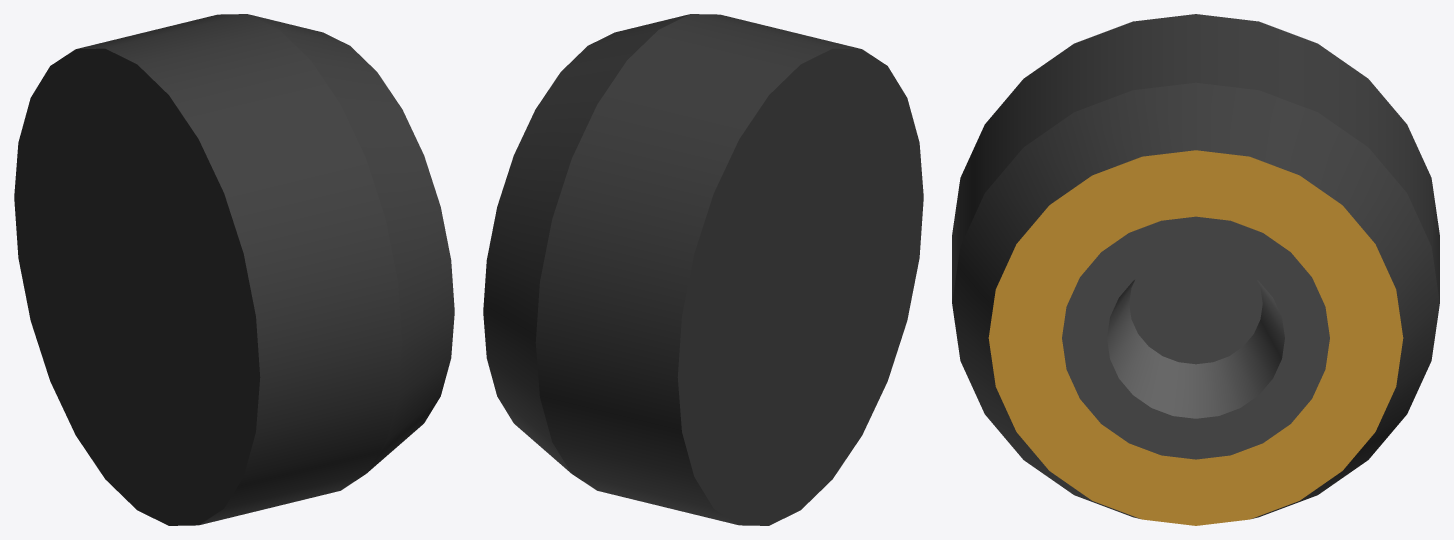
File: wheelRacing.fbx
3 renders of one model, left to right at view 1: azimuth 30°, elevation 25°; view 2: azimuth 150°, elevation 25°; view 3: azimuth 270°, elevation 25°, orthographic.
Parts seen in each view (by area): view 1: wheelRacing; view 2: wheelRacing; view 3: wheelRacing.
Part boxes in pixels (x1,y1,x2,y2): wheelRacing: (14, 14, 454, 525); wheelRacing: (483, 14, 923, 525); wheelRacing: (952, 14, 1439, 525).
Size of the model in its own units: 3 by 6 by 6.
